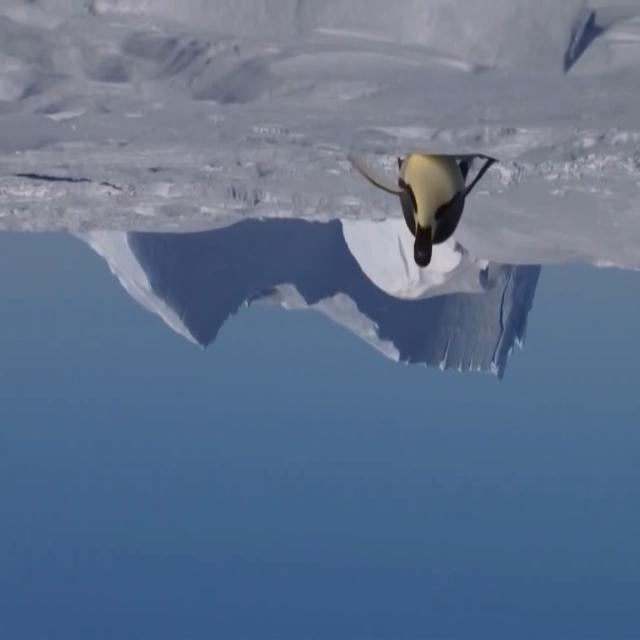penguin: (350, 149, 501, 267)
